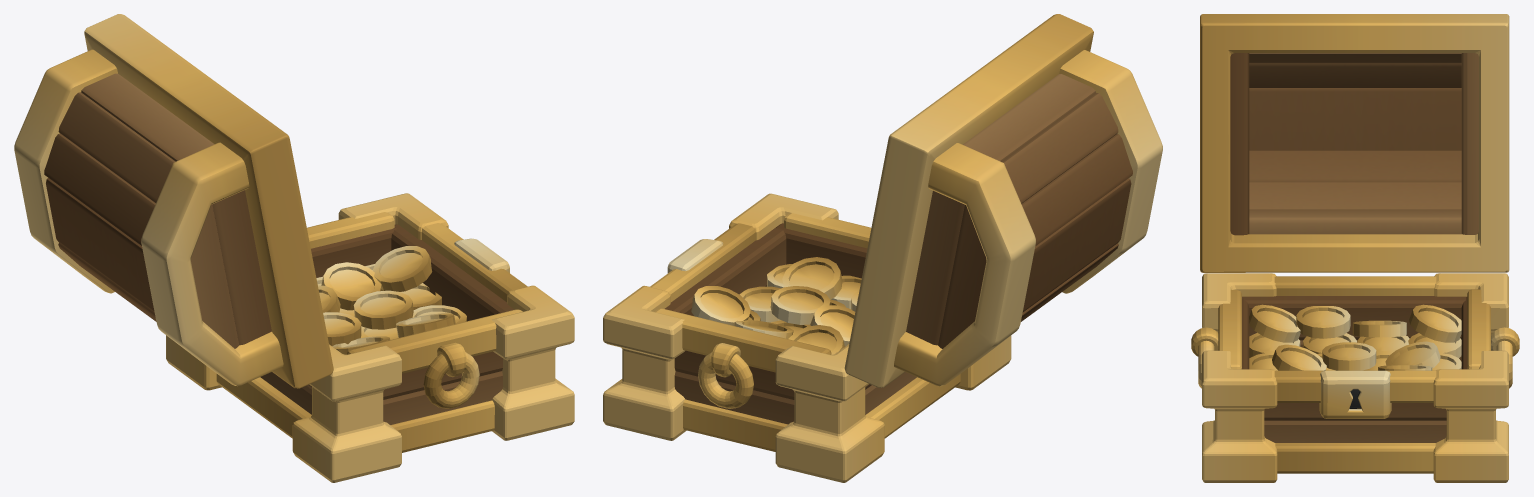
Rendered from chest2.fbx.
3 views of the same model, side by side, from view 1: azimuth 30°, elevation 25°; view 2: azimuth 150°, elevation 25°; view 3: azimuth 270°, elevation 25° (orthographic). The views are drawn at different scales.
Parts seen in each view (by area): view 1: verh, niz; view 2: verh, niz; view 3: verh, niz.
Boxes of the visible parts, box(x1,y1,x2,y2) form: verh: box(14, 14, 333, 388); niz: box(166, 193, 574, 482); verh: box(844, 14, 1162, 387); niz: box(603, 193, 1011, 482); verh: box(1200, 14, 1509, 272); niz: box(1191, 273, 1519, 482).
Bounding box in the file's own units: 0.8739 × 0.7456 × 0.6682.
